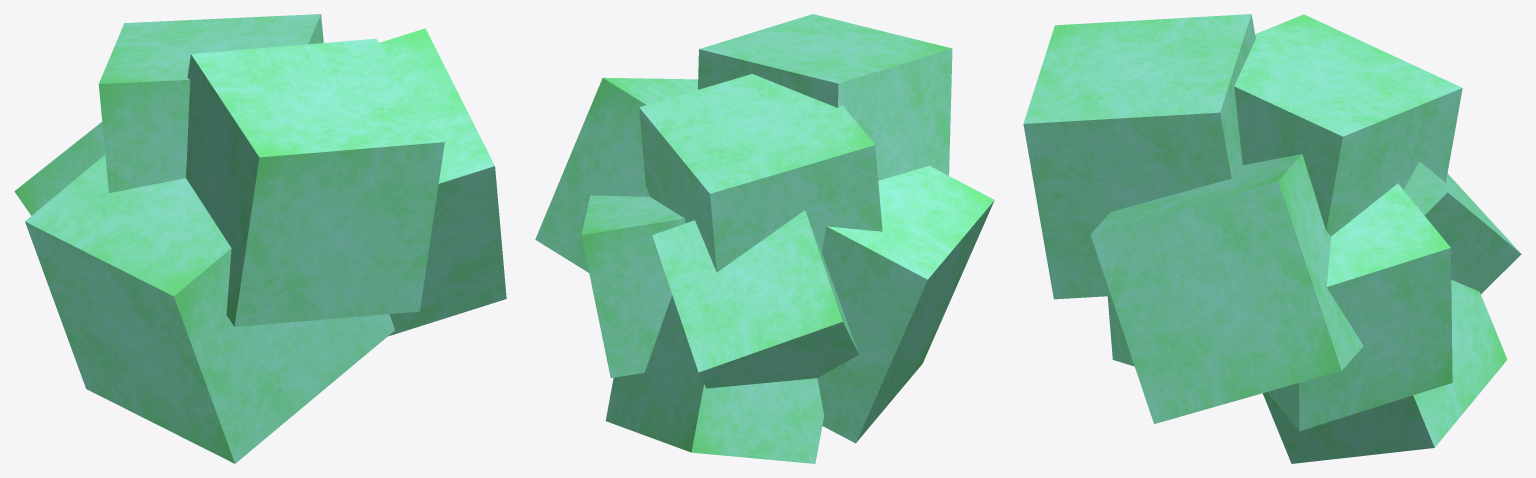
File: SuperTemporalSodiumModel.fbx
3 renders of one model, left to right at view 1: azimuth 30°, elevation 25°; view 2: azimuth 150°, elevation 25°; view 3: azimuth 270°, elevation 25°, orthographic. The views are drawn at different scales.
Visible parts, largest first — view 1: SuperTemporalSodium; view 2: SuperTemporalSodium; view 3: SuperTemporalSodium.
Boxes of the visible parts, <box> form: SuperTemporalSodium: <box>14,14,506,463</box>; SuperTemporalSodium: <box>535,14,994,463</box>; SuperTemporalSodium: <box>1023,14,1521,463</box>.
Bounding box in the file's own units: 9.94 × 8.88 × 10.02.
